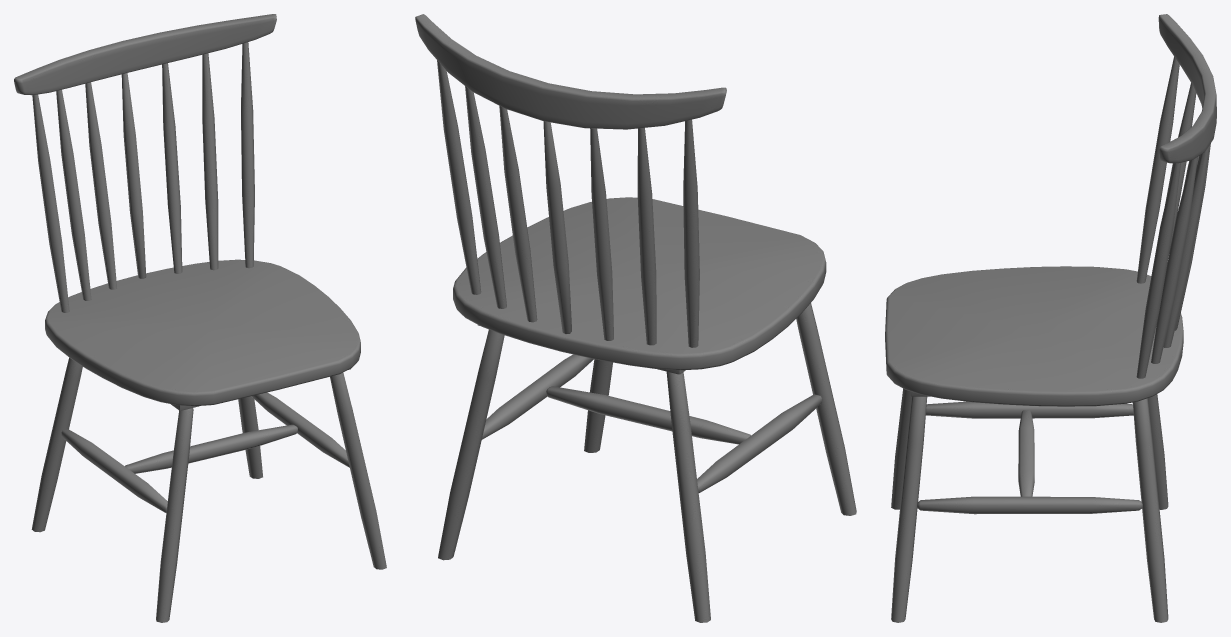
The model's file is Chair.fbx.
3 renders of one model, left to right at view 1: azimuth 30°, elevation 25°; view 2: azimuth 150°, elevation 25°; view 3: azimuth 270°, elevation 25°, orthographic. The views are drawn at different scales.
Parts seen in each view (by area): view 1: Chair_32in_DR003_1; view 2: Chair_32in_DR003_1; view 3: Chair_32in_DR003_1.
Boxes of the visible parts, x1,y1,x2,y2 form: Chair_32in_DR003_1: (14,14,386,622); Chair_32in_DR003_1: (415,14,856,622); Chair_32in_DR003_1: (885,14,1216,622).
Bounding box in the file's own units: 56.03 × 92.73 × 57.72.
Materials: 1 (1 with a texture image).
